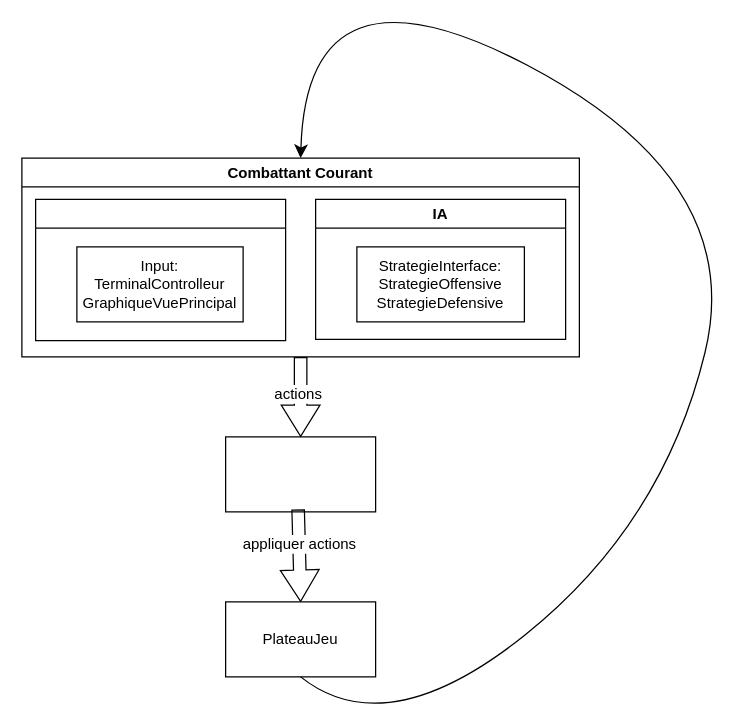
Image size: 734x725. Some labels were removed from this diagram. The shapes that lost their labels are listed below. From the top down, each one's box as (x1, y1, x2, y2) in pixels, then its label:
(34, 198, 286, 341): Joueur
(224, 436, 376, 512): GeneralControlleur
